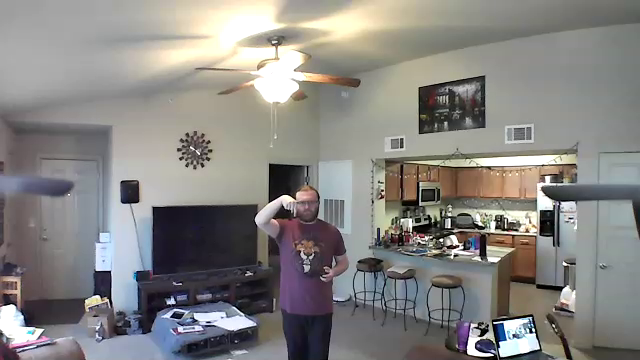down: (277, 190, 299, 221)
